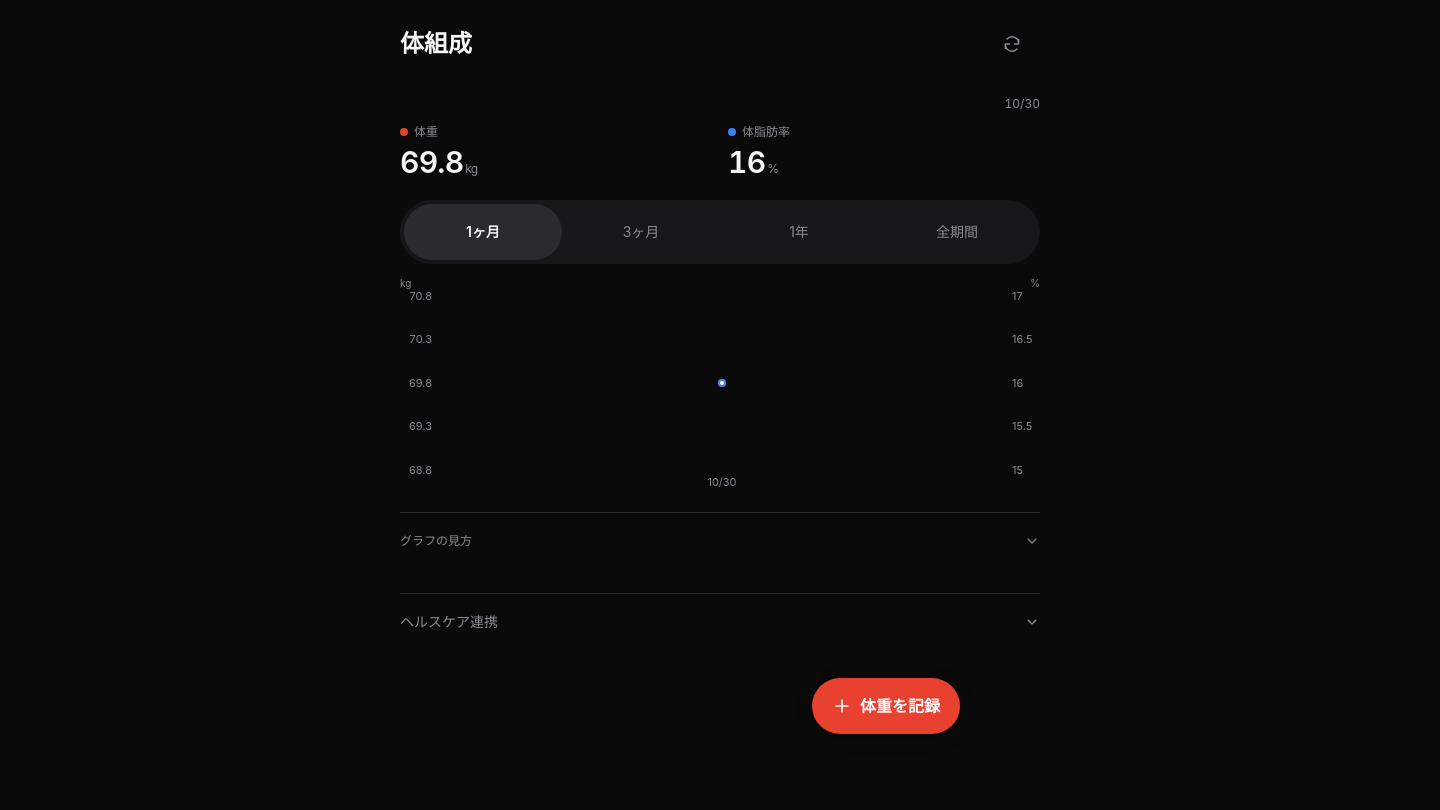
BodyPage › prefills the latest values so an unchanged day is one tap
Click the button "体重を記録": (886, 706) [812,678,960,734]
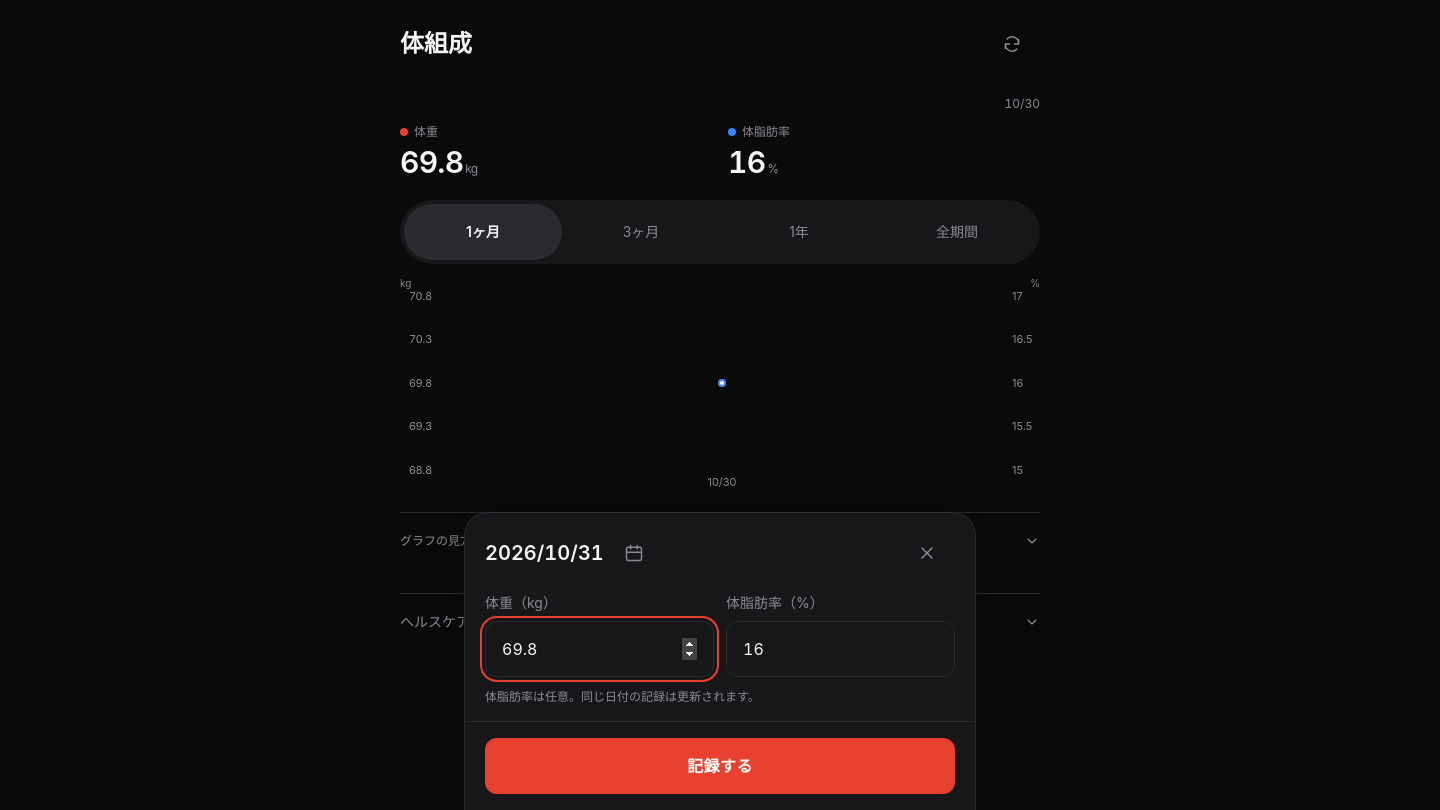
Result: the number field labelled "体重（kg）" holds "69.8" at [485,621,714,677]
Result: the number field labelled "体脂肪率（%）" holds "16" at [726,621,955,677]
